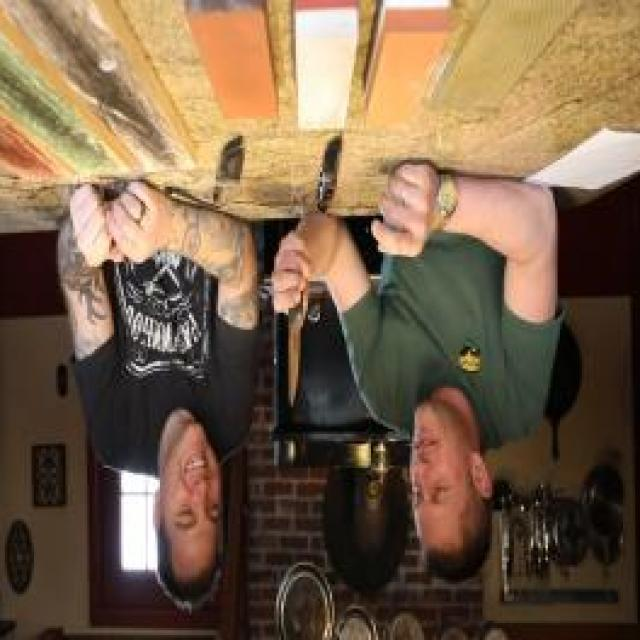knife: (272, 242, 315, 422)
